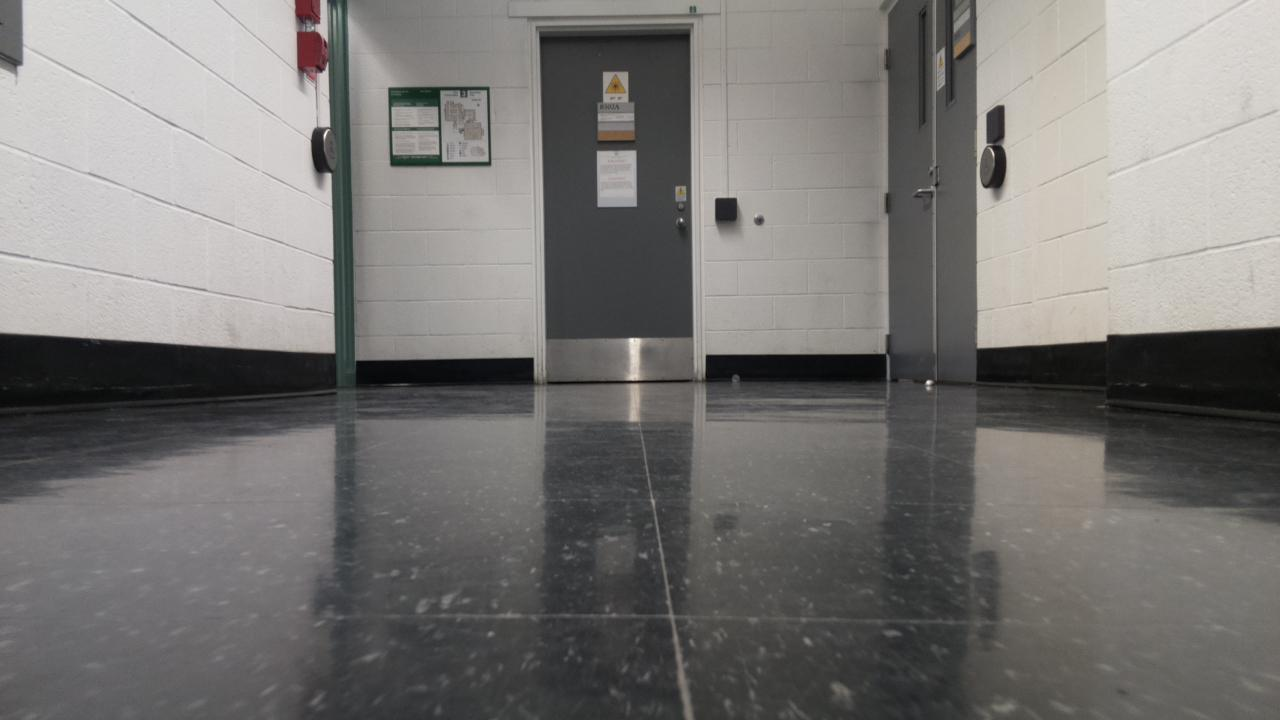door: (540, 34, 692, 381)
sign: (388, 87, 490, 165), (597, 102, 634, 139), (603, 72, 628, 102)
